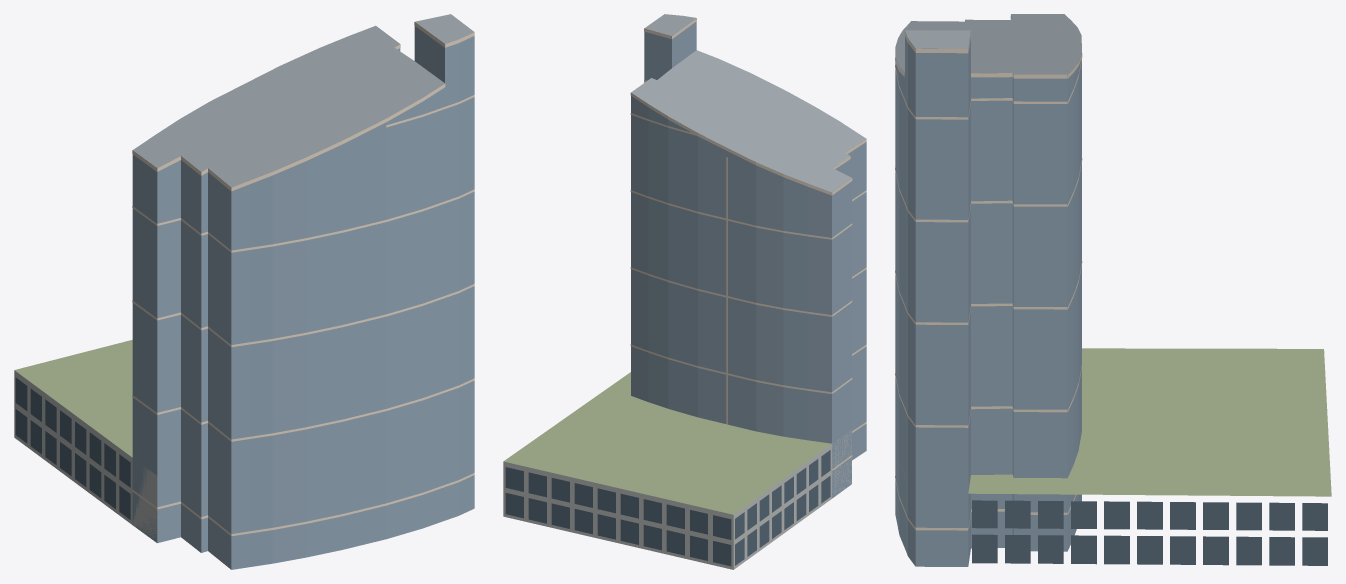
File: ric-dominion-energy-600-canal.glb
The picture shows the model from 3 angles, left to right: view 1: azimuth 30°, elevation 25°; view 2: azimuth 150°, elevation 25°; view 3: azimuth 270°, elevation 25°; orthographic projection. The views are drawn at different scales.
Parts seen in each view (by area): view 1: Dominion Energy 600 Canal Place; view 2: Dominion Energy 600 Canal Place; view 3: Dominion Energy 600 Canal Place.
Boxes of the visible parts, x1,y1,x2,y2 form: Dominion Energy 600 Canal Place: (14, 14, 474, 569); Dominion Energy 600 Canal Place: (503, 14, 866, 569); Dominion Energy 600 Canal Place: (895, 14, 1331, 566).
Bounding box in the file's own units: 78.1 × 127 × 97.09.
